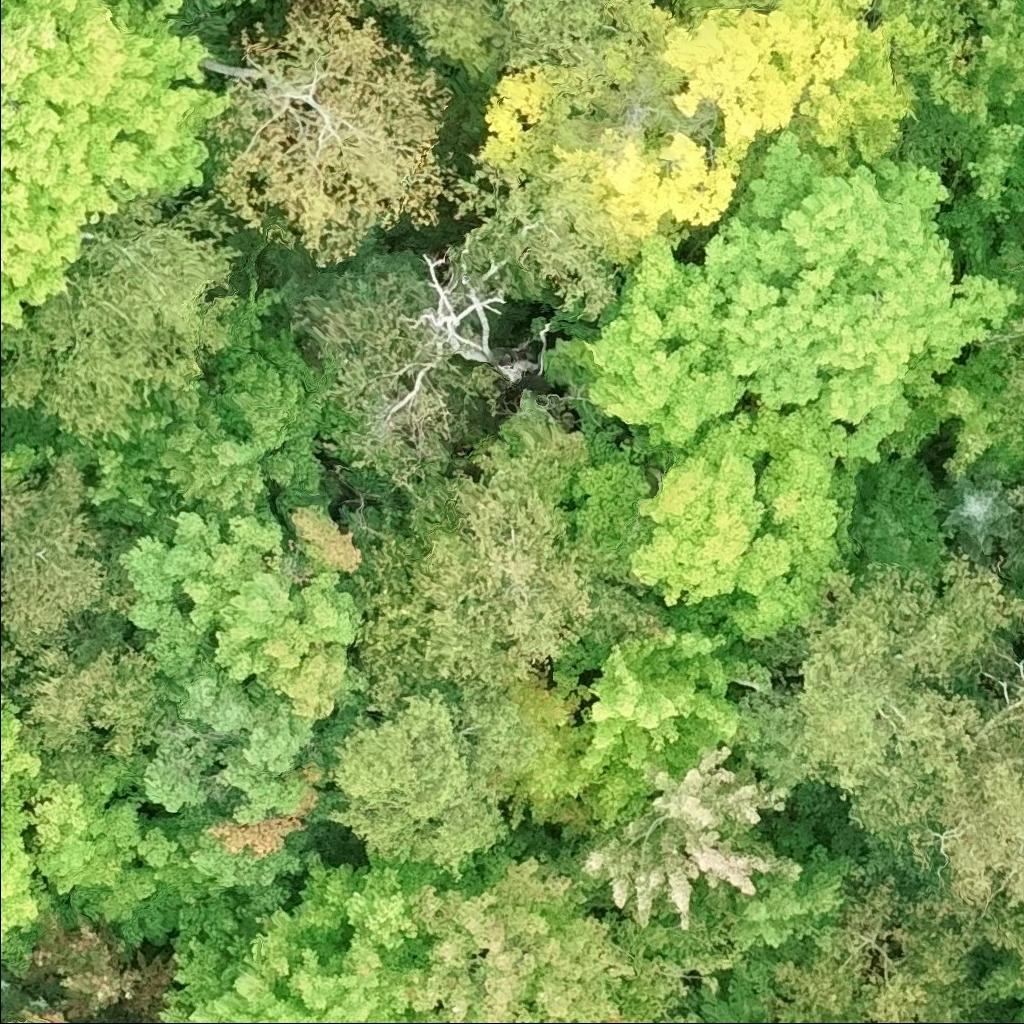crown: (545, 132, 1023, 461), (547, 0, 926, 253), (741, 547, 1023, 875), (110, 493, 376, 825), (355, 416, 665, 689), (0, 0, 238, 335), (28, 750, 366, 966), (201, 0, 467, 269), (83, 275, 356, 528), (0, 194, 247, 467), (629, 397, 864, 644), (555, 730, 807, 930), (154, 848, 438, 1023), (577, 601, 780, 832), (325, 667, 542, 881), (392, 852, 639, 1023), (0, 452, 137, 687), (903, 677, 1023, 917), (0, 613, 169, 759), (366, 0, 616, 81), (882, 346, 1023, 483), (502, 667, 611, 844), (0, 749, 81, 980), (20, 912, 173, 1023), (727, 840, 856, 952), (561, 421, 655, 565), (941, 116, 1023, 280), (958, 0, 1023, 129), (935, 471, 1020, 561), (982, 307, 1023, 426), (0, 438, 62, 486), (0, 690, 30, 765), (13, 1006, 75, 1023), (1009, 919, 1023, 982), (1008, 478, 1023, 505), (210, 0, 263, 7), (613, 1016, 649, 1023), (766, 1020, 785, 1023)
